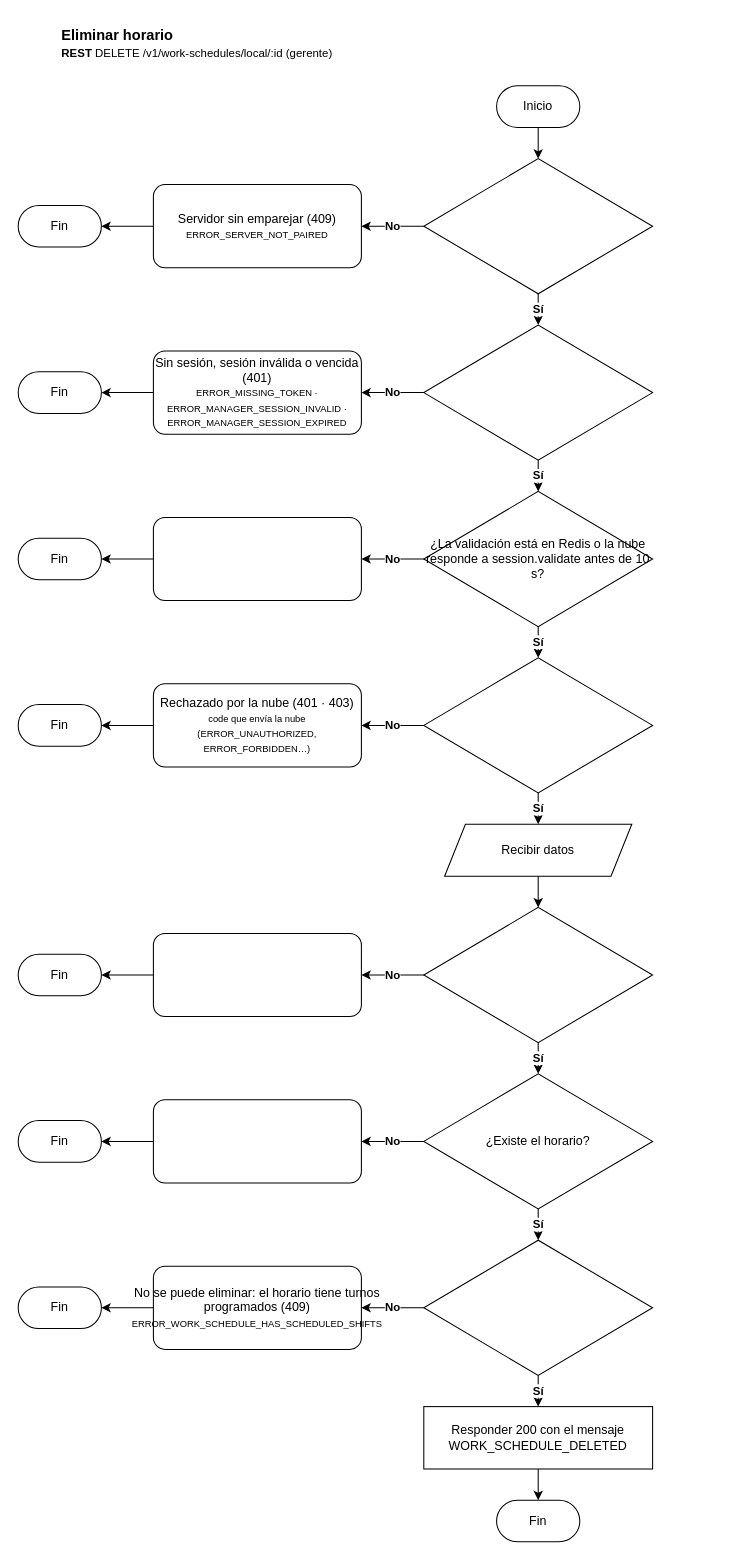
This 744x1560 diagram has some shape labels left out. Each missing label, with the centre of its shape:
"Datos inválidos (400) ERROR_BAD_REQUEST" belongs at [256,974].
"La nube no responde (503) ERROR_CLOUD_UNAVAILABLE · ERROR_SERVER_UNLINKED" belongs at [256,558].
"No se encontró el horario (404) ERROR_WORK_SCHEDULE_NOT_FOUND" belongs at [256,1141].
"¿El horario no tiene turnos programados?" belongs at [538,1307].
"¿El servidor ya se emparejó alguna vez (pairing_status distinto de unpaired)?" belongs at [538,226].
"¿La nube acepta la sesión del gerente con este servidor?" belongs at [538,725].
"¿Los datos son válidos?" belongs at [538,974].
"¿Trae una sesión de gerente válida (Bearer mss_..., sin 30 min de inactividad)?" belongs at [538,392].
